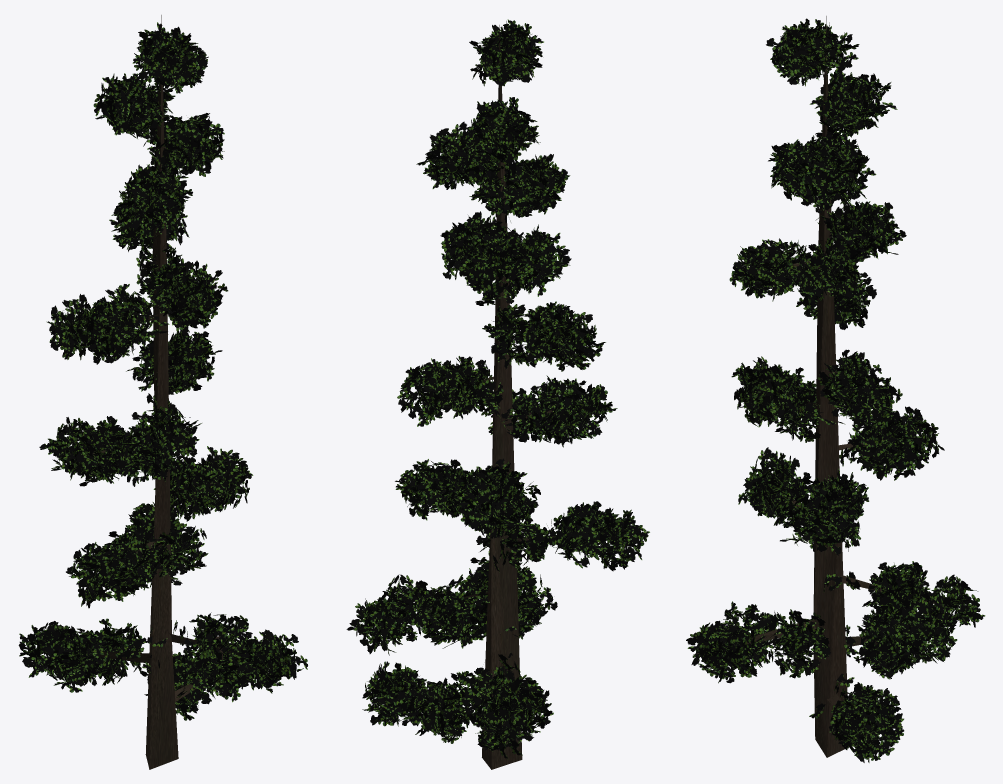
File: spruce_conifer_v01_LOD1.fbx
3 views of the same model, side by side, from view 1: azimuth 30°, elevation 25°; view 2: azimuth 150°, elevation 25°; view 3: azimuth 270°, elevation 25° (orthographic).
Parts seen in each view (by area): view 1: spruce_conifer_v01_LOD1; view 2: spruce_conifer_v01_LOD1; view 3: spruce_conifer_v01_LOD1.
Part boxes in pixels (x1,y1,x2,y2): spruce_conifer_v01_LOD1: [18, 15, 307, 769]; spruce_conifer_v01_LOD1: [346, 19, 649, 769]; spruce_conifer_v01_LOD1: [686, 16, 985, 762].
Bounding box in the file's own units: 746 × 829 × 2198.
